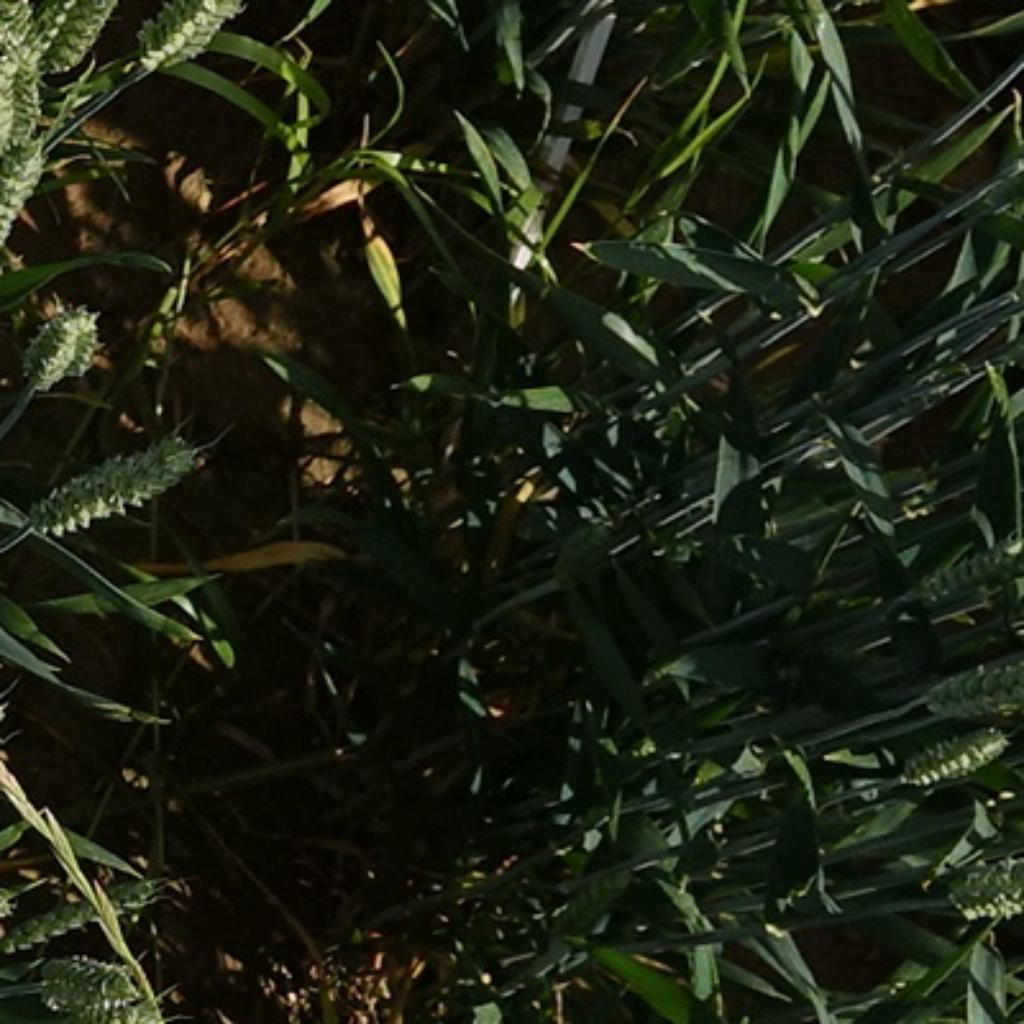0-0: (27, 432, 209, 542), (0, 865, 188, 951), (10, 294, 107, 389), (888, 719, 1021, 785), (128, 2, 238, 79), (40, 934, 147, 1013), (917, 533, 1012, 612), (0, 143, 56, 263), (0, 48, 51, 174), (35, 2, 122, 74), (926, 663, 1021, 721), (947, 862, 1024, 919), (71, 987, 174, 1024), (0, 2, 38, 87)
